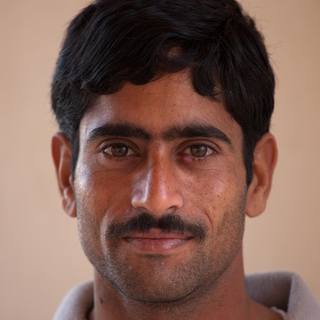eye: (164, 134, 227, 172), (82, 134, 149, 164)
